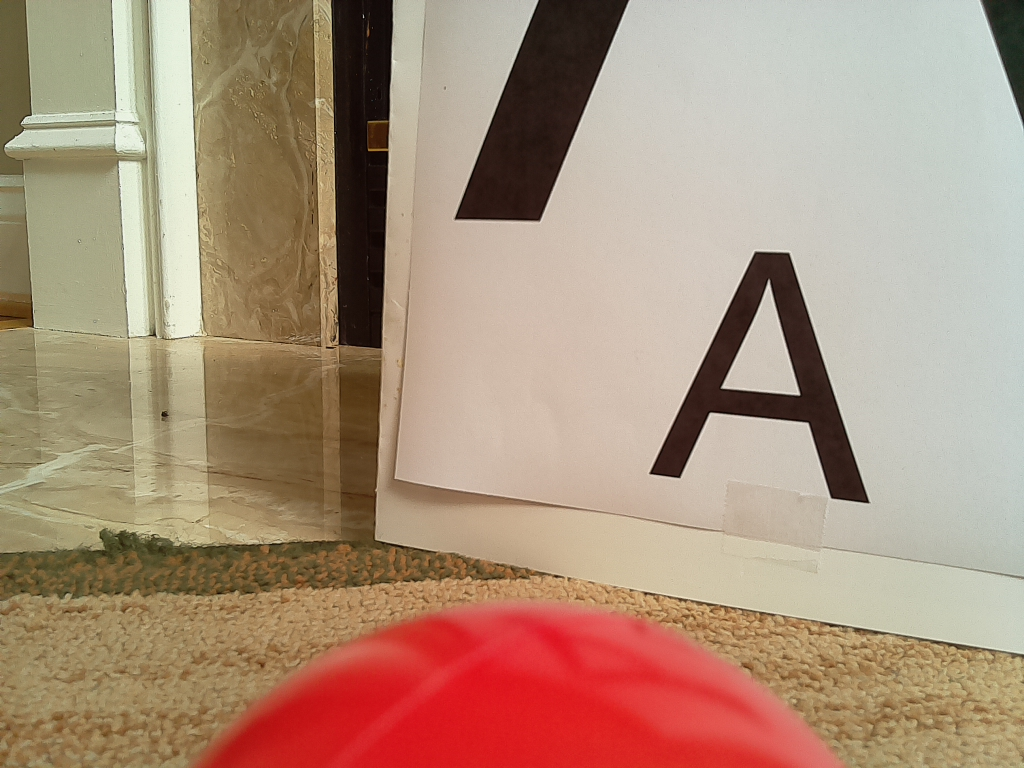letter: (650, 252, 873, 502)
